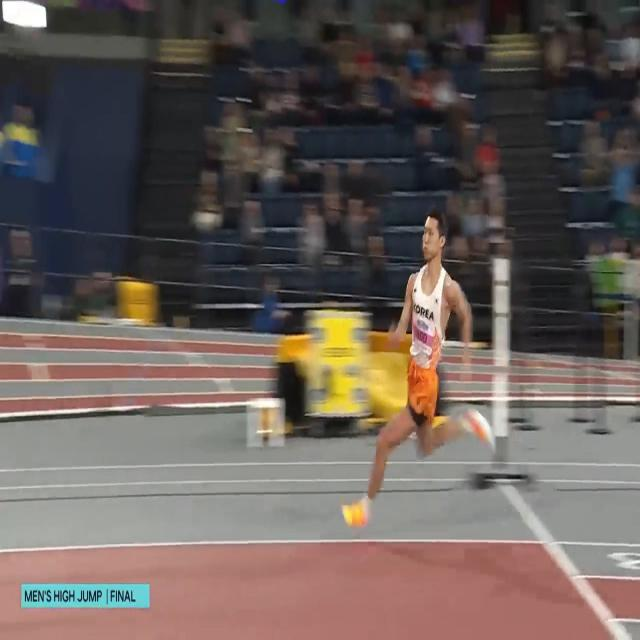run: (339, 205, 497, 530)
